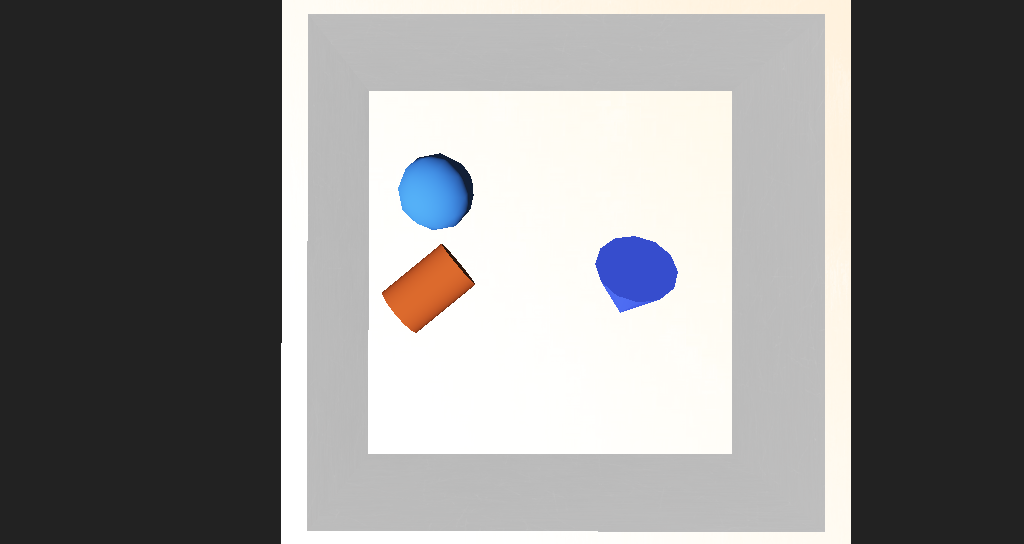cone: (364, 248, 445, 305)
cylinder: (536, 246, 610, 317)
sphere: (377, 203, 445, 246)
